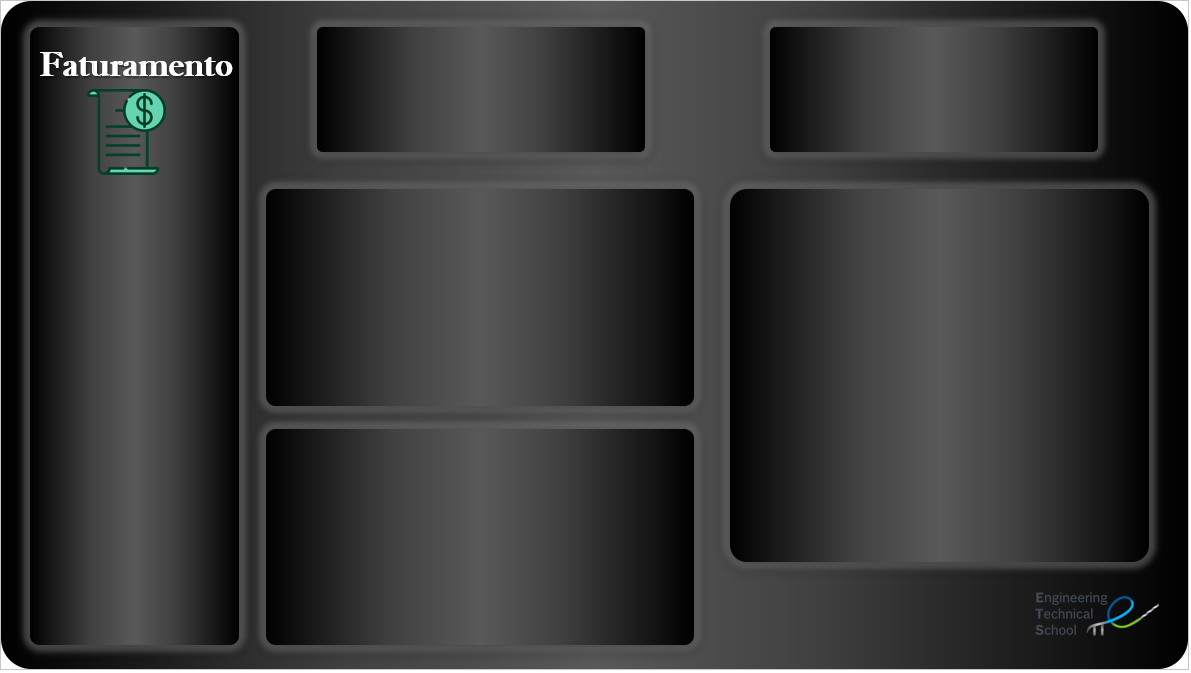

The page's visual inventory and layout, read from the dashboard file:
{"tool":"powerbi","page":{"name":"FATURAMENTO","canvas":[1280,720],"ordinal":1},"visuals":[{"type":"card","fields":{"Values":["Clientes.Média valor de contrato anual"]},"box":[892.8,29.2,252.4,126.6],"z":0},{"type":"areaChart","fields":{"Category":["Calendário.Mês","Calendário.Ano"],"Y":["BaseServiçosPrestados.Total faturamento"]},"box":[340.2,210.1,369.4,213.8],"z":1000},{"type":"clusteredColumnChart","fields":{"Y":["CountNonNull(BaseServiçosPrestados.Data da Contratação)"],"Category":["Calendário.Mês"]},"box":[816.9,238.4,382.1,319.3],"z":2000},{"type":"card","fields":{"Values":["Funcionários.Meta"]},"box":[376.6,468.5,296.6,196.5],"z":3000},{"type":"image","box":[938.8,618.6,138.3,91.9],"z":4000}]}

Visuals, with their boxes in screenshot pixels (x1, y1, x2, y2), scaled from the page's 1280x720 canvas onto the 1191x673 screenshot:
card - Clientes.Média valor de contrato anual: <box>831,27,1066,146</box>
areaChart - Calendário.Mês x Calendário.Ano: <box>317,196,660,396</box>
clusteredColumnChart - CountNonNull(BaseServiçosPrestados.Data da Contratação) x Calendário.Mês: <box>760,223,1116,521</box>
card - Funcionários.Meta: <box>350,438,626,622</box>
image: <box>874,578,1002,664</box>
